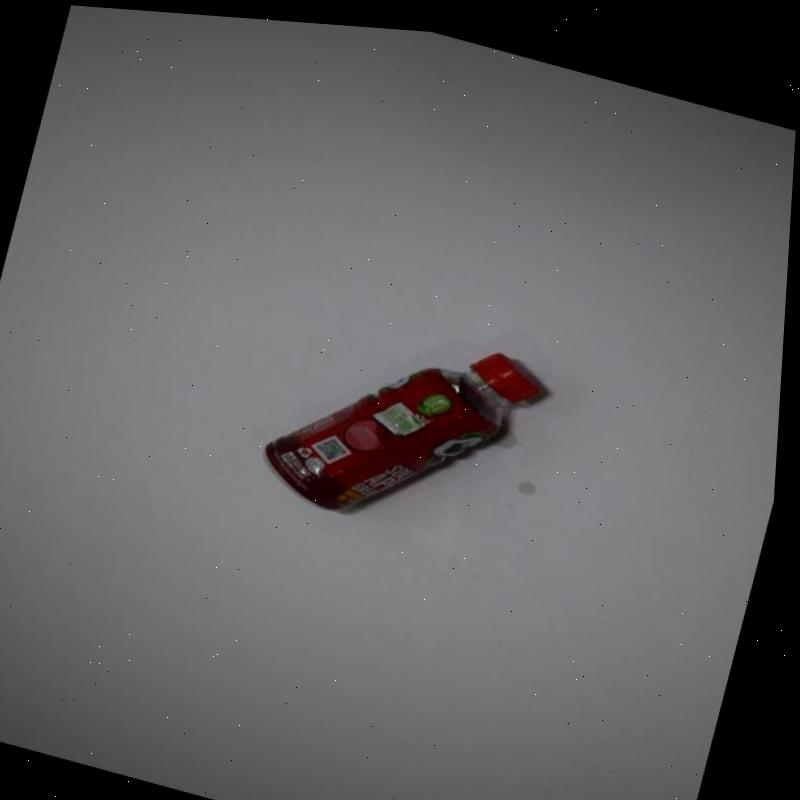botella: (259, 288, 562, 553)
